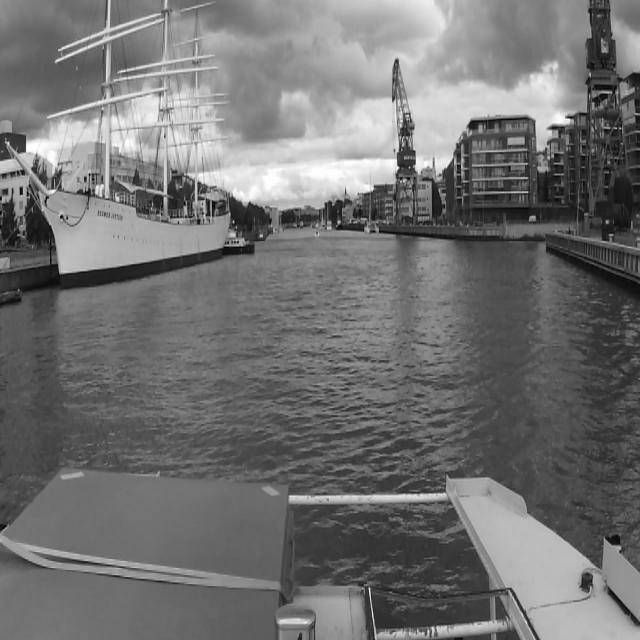ship: (6, 0, 229, 276), (362, 154, 382, 242), (220, 230, 254, 258)
